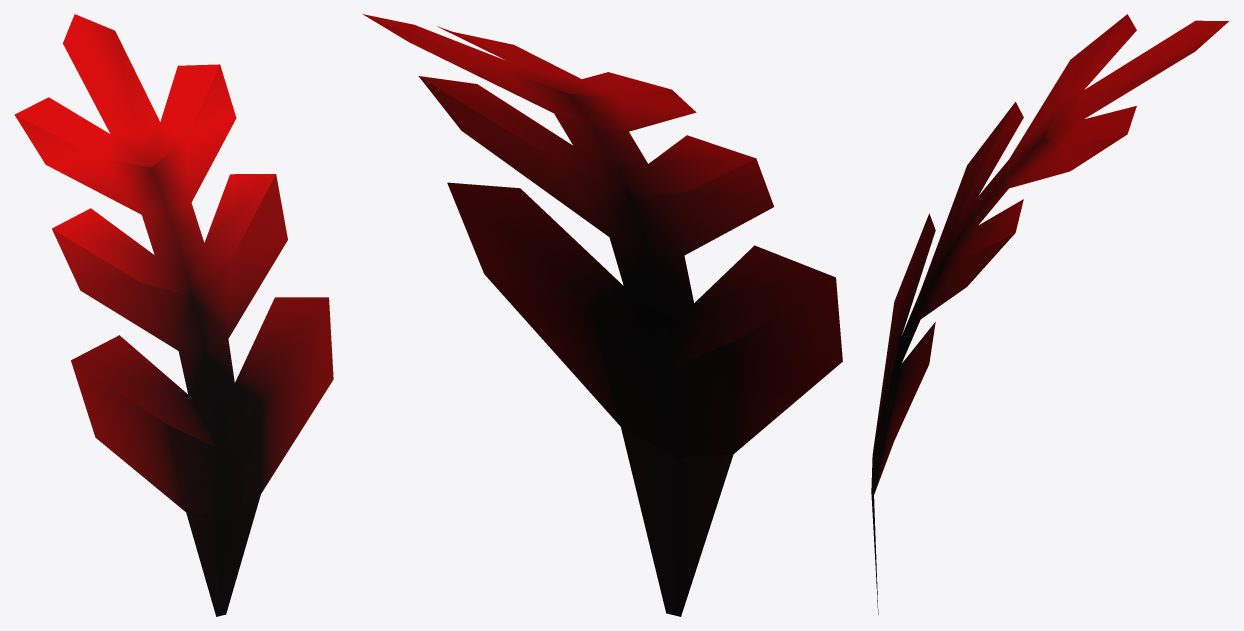
The model's file is SM_Fern_01_LOD1.fbx.
The picture shows the model from 3 angles, left to right: view 1: azimuth 30°, elevation 25°; view 2: azimuth 150°, elevation 25°; view 3: azimuth 270°, elevation 25°; orthographic projection. The views are drawn at different scales.
Visible parts, largest first — view 1: Fern_01_LOD1; view 2: Fern_01_LOD1; view 3: Fern_01_LOD1.
Part boxes in pixels (x1,y1,x2,y2): Fern_01_LOD1: [14, 14, 333, 616]; Fern_01_LOD1: [362, 14, 842, 616]; Fern_01_LOD1: [871, 14, 1228, 614].
Bounding box in the file's own units: 53.05 × 97.07 × 53.14.
